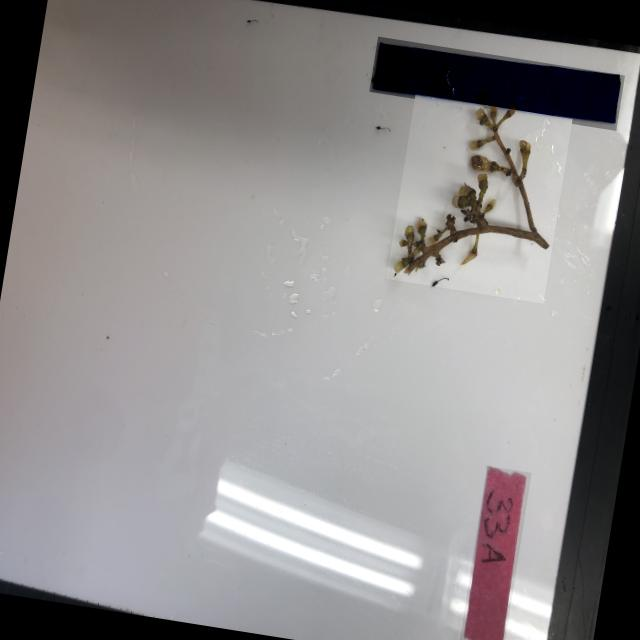index: (456, 465, 530, 640)
measure_label: (368, 36, 624, 130)
rachis_cluster: (386, 94, 572, 304)
